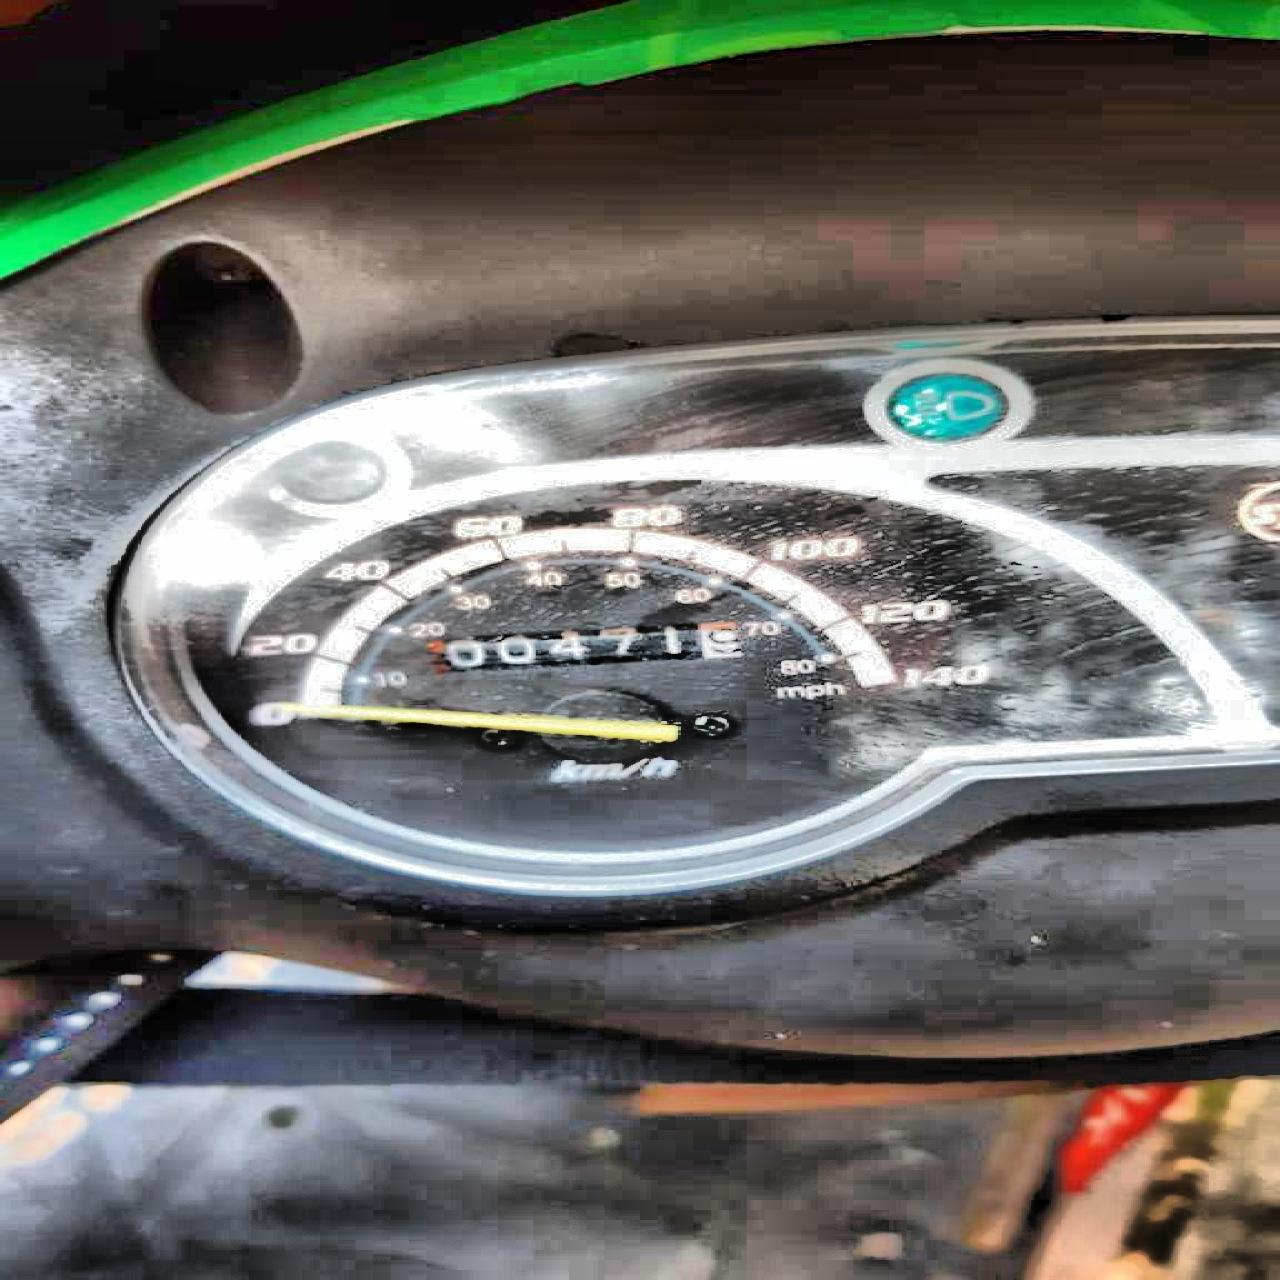0: (491, 634, 536, 663), (443, 638, 484, 667), (424, 621, 444, 635)
1: (653, 621, 687, 655)
4: (543, 628, 588, 658)
7: (595, 625, 638, 655)
9: (704, 625, 740, 656)
odometer: (421, 617, 747, 675)
